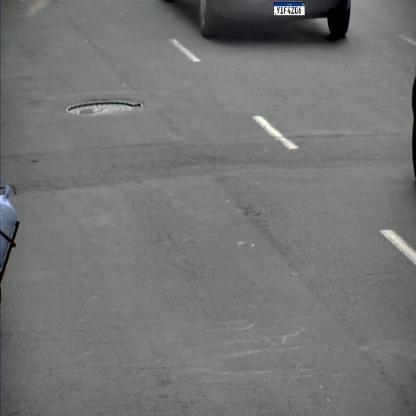PlacaM: (274, 2, 305, 16)
